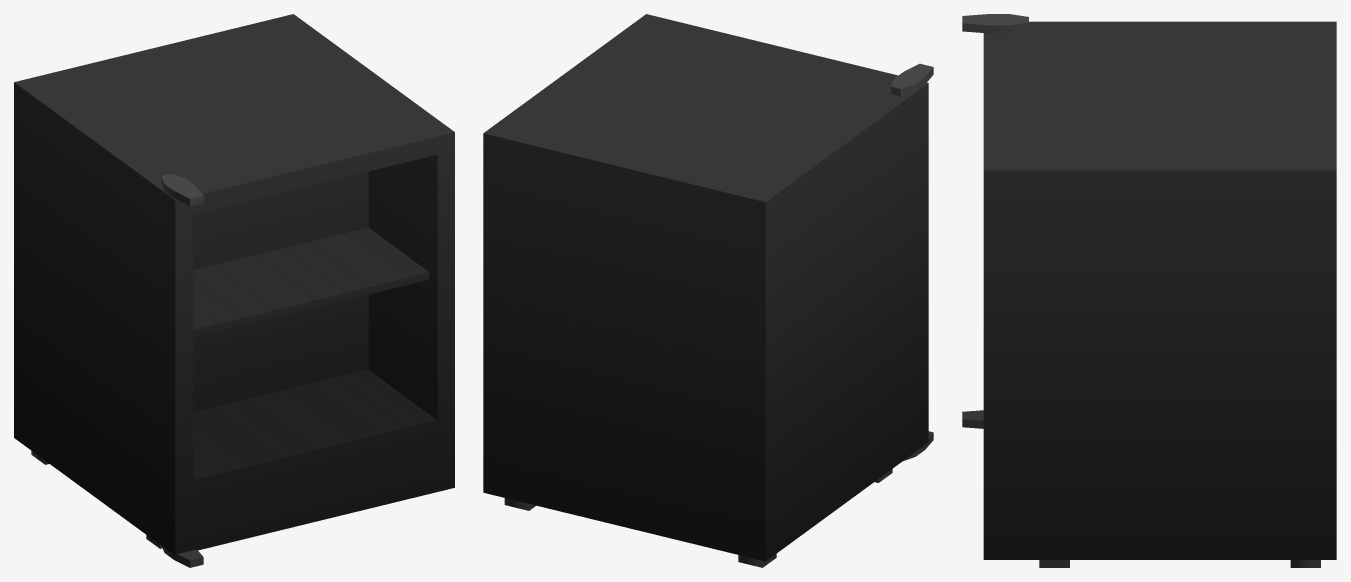
Rendered from BeerFridge.fbx.
3 views of the same model, side by side, from view 1: azimuth 30°, elevation 25°; view 2: azimuth 150°, elevation 25°; view 3: azimuth 270°, elevation 25° (orthographic). The views are drawn at different scales.
Visible parts, largest first — view 1: BeerFridge; view 2: BeerFridge; view 3: BeerFridge.
Part boxes in pixels (bbox=[...]): BeerFridge: bbox=[14, 14, 454, 567]; BeerFridge: bbox=[483, 14, 933, 567]; BeerFridge: bbox=[962, 14, 1336, 567].
Bounding box in the file's own units: 56 × 72.19 × 59.39.
